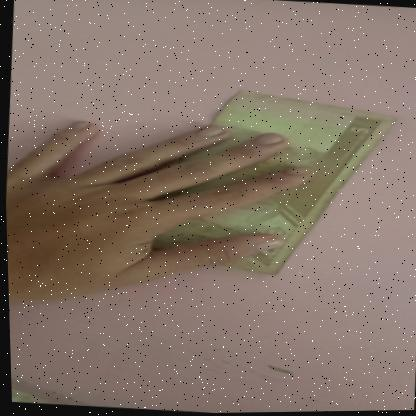five-back-vef: (144, 81, 400, 284)
